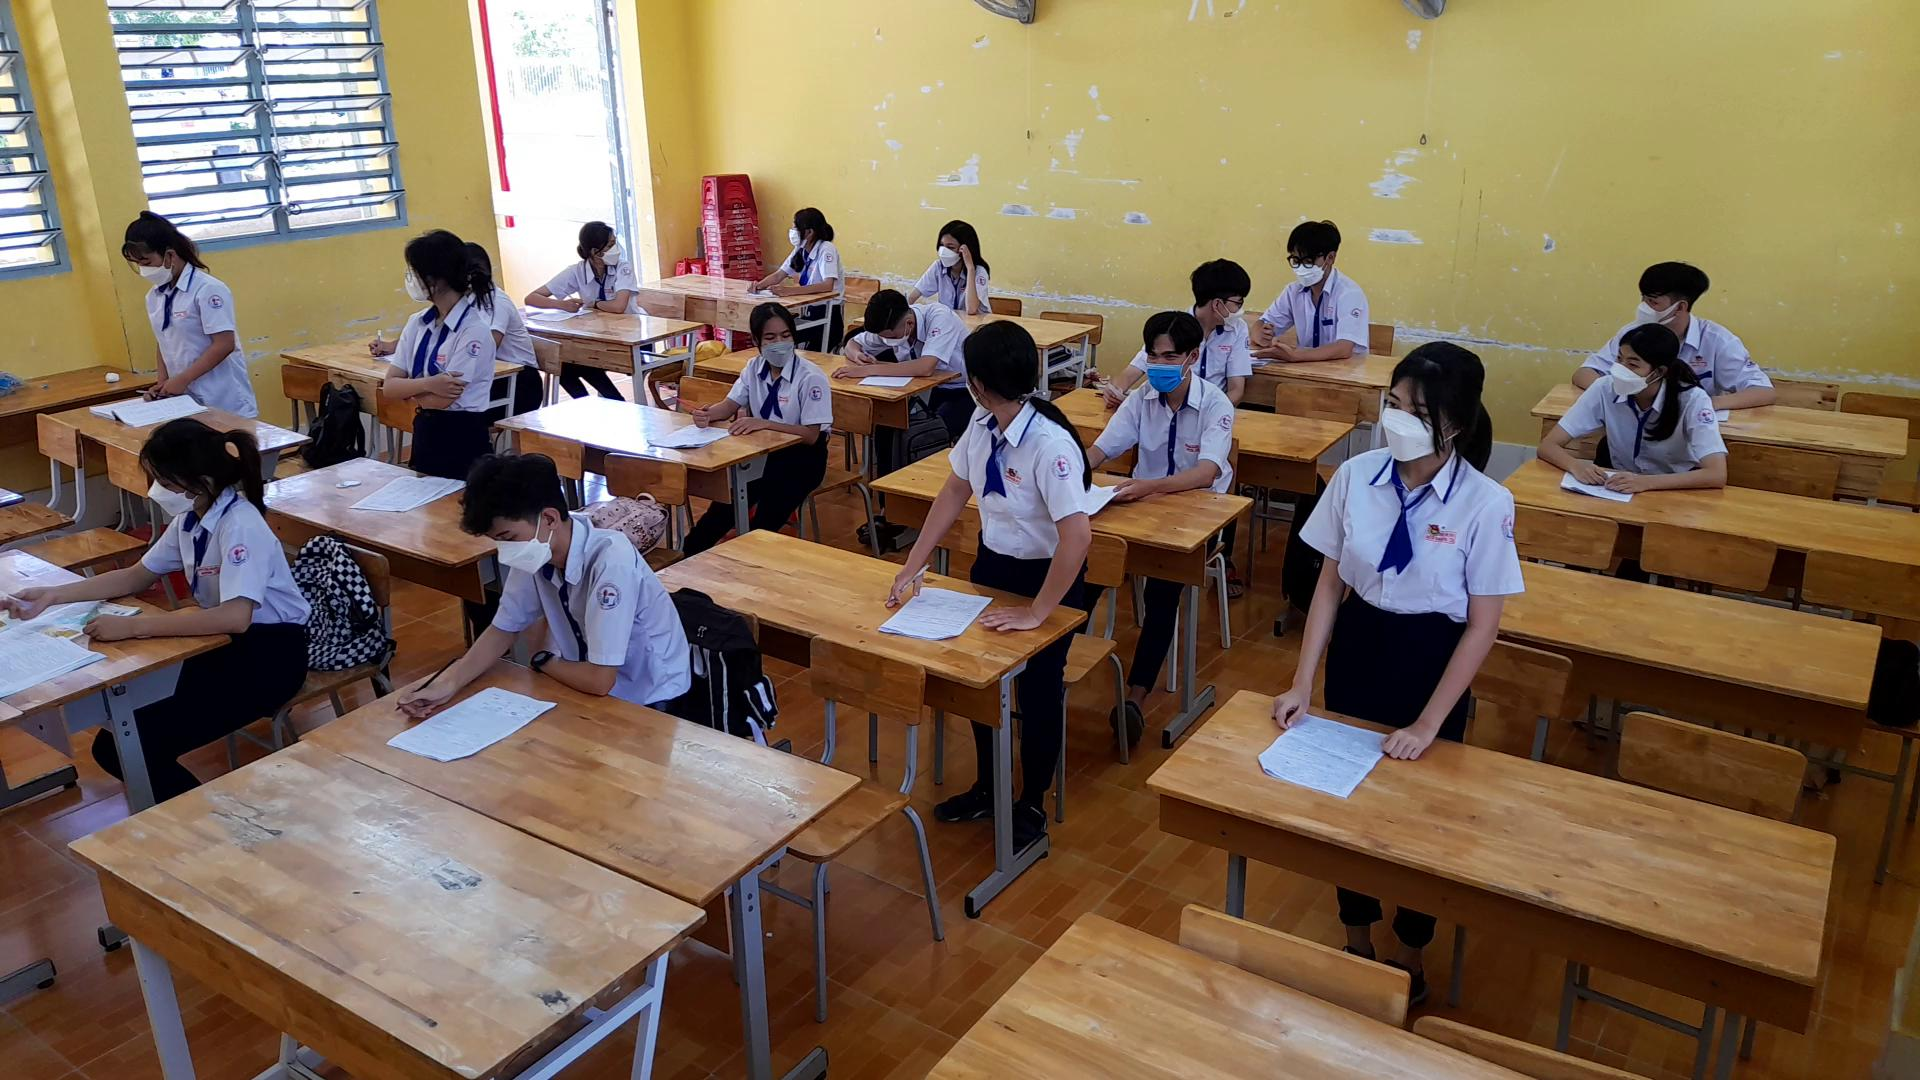Look Around: (1178, 251, 1255, 328), (556, 212, 629, 272)
Normal: (396, 444, 694, 728), (5, 411, 320, 646), (1088, 301, 1237, 508), (680, 291, 843, 442), (1247, 211, 1370, 369)
Stand Up: (1261, 332, 1527, 770), (884, 313, 1096, 640), (368, 223, 501, 467), (119, 202, 255, 421)
Wave: (955, 236, 992, 316)
